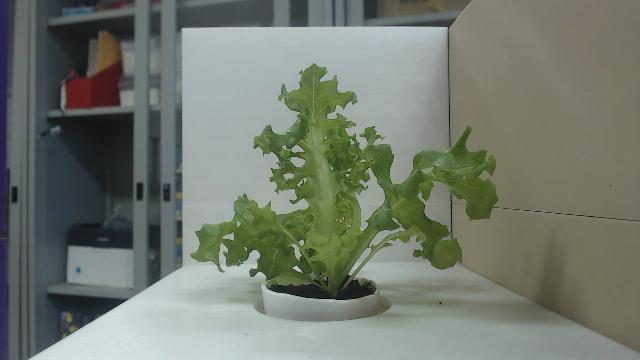Harvest Stage: (192, 62, 500, 298)
